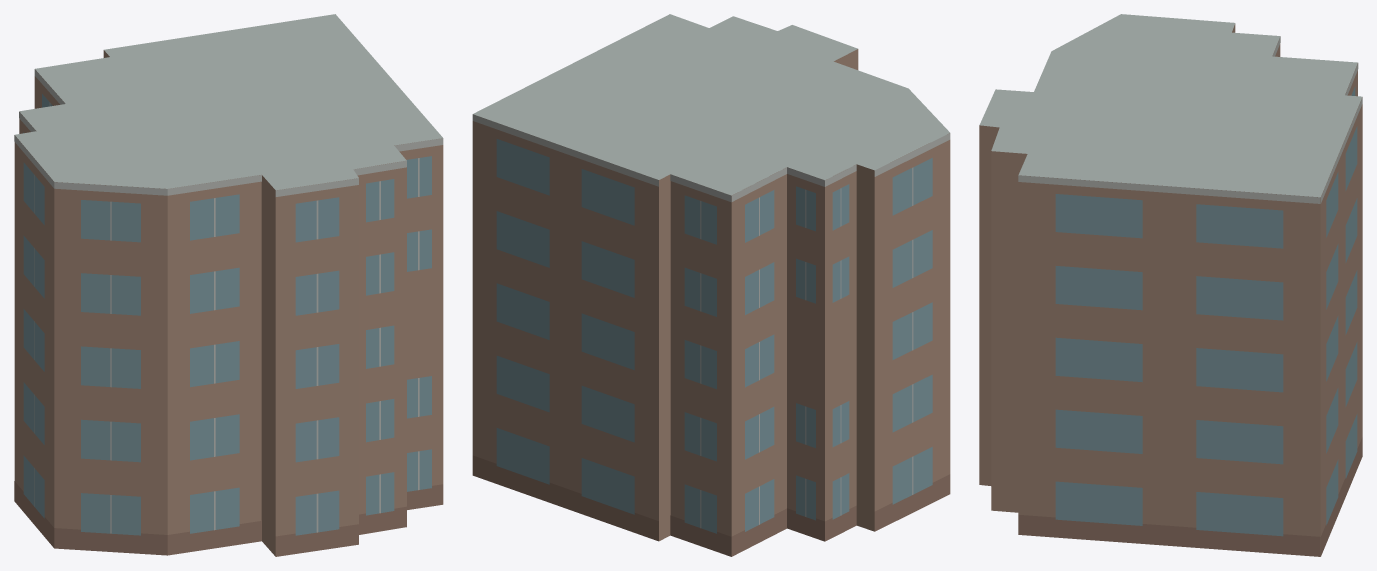
File: survey-upis-32629474.glb
3 views of the same model, side by side, from view 1: azimuth 30°, elevation 25°; view 2: azimuth 150°, elevation 25°; view 3: azimuth 270°, elevation 25° (orthographic).
Visible parts, largest first — view 1: survey-upis-32629474.tmp; view 2: survey-upis-32629474.tmp; view 3: survey-upis-32629474.tmp.
Boxes of the visible parts, box(x1,y1,x2,y2) form: survey-upis-32629474.tmp: box(14, 14, 443, 556); survey-upis-32629474.tmp: box(472, 14, 950, 556); survey-upis-32629474.tmp: box(979, 14, 1362, 556).
Bounding box in the file's own units: 14.33 × 13.1 × 12.66.
